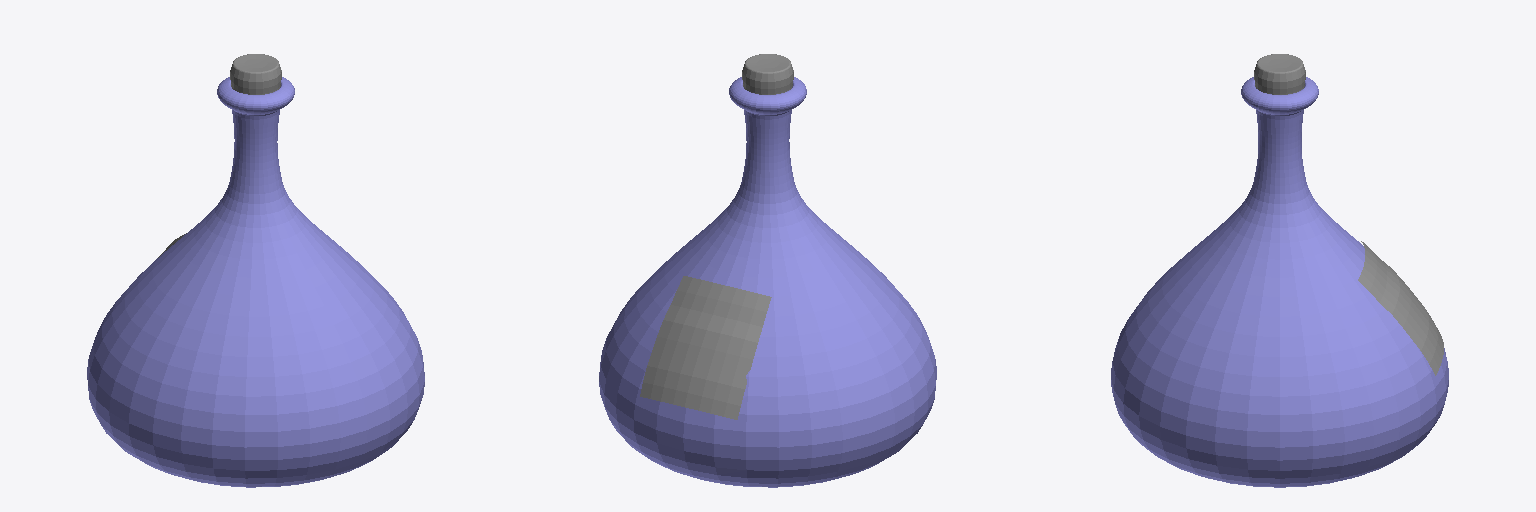
The model's file is poisonOBJ.obj.
The picture shows the model from 3 angles: view 1: azimuth 30°, elevation 25°; view 2: azimuth 150°, elevation 25°; view 3: azimuth 270°, elevation 25°; orthographic projection.
Parts seen in each view (by area): view 1: bottle, cork; view 2: bottle, cork; view 3: bottle, cork.
Part boxes in pixels (x1,y1,x2,y2): bottle: (87,77,424,487); cork: (230,54,281,94); bottle: (599,77,936,487); cork: (742,54,793,94); bottle: (1111,77,1448,487); cork: (1254,54,1305,94).
Bounding box in the file's own units: 41.18 × 51.72 × 41.18.